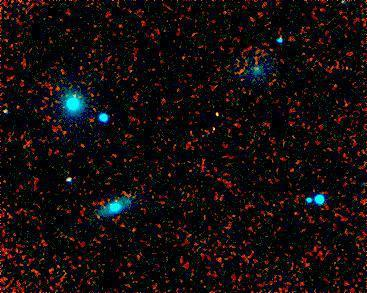star: (204, 111, 234, 141)
